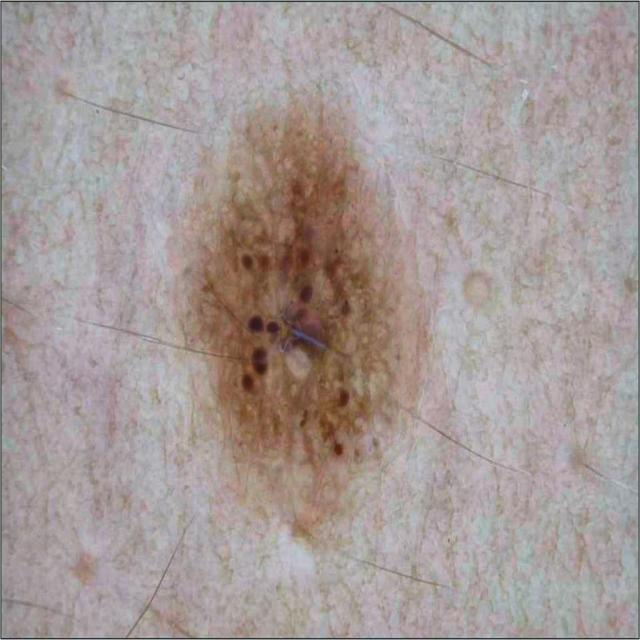Melanocytic-Nevi-NV-: (150, 62, 509, 555)
